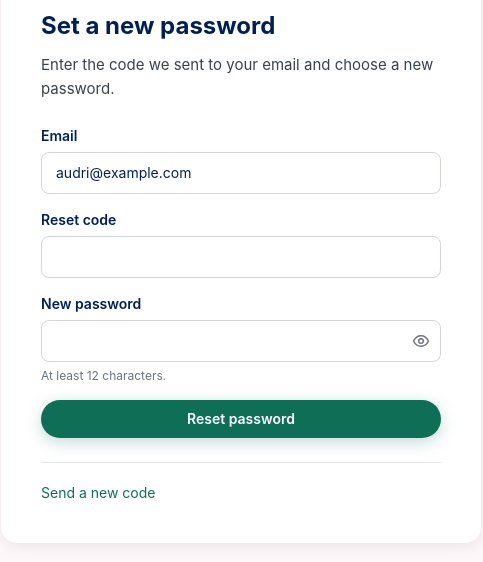
Test: ResetForgottenPasswordForm › blocks submission when the new password is shorter than 12 characters
This screenshot has width=483, height=562.
Type "123456" into the field labelled "Reset code" at (241, 257), box [41, 236, 441, 278]
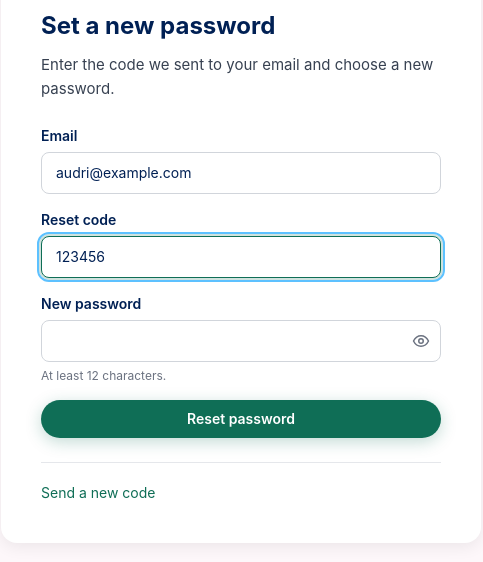
Type "tooshort1" into the password field labelled "New password" at (241, 341), box [41, 320, 441, 362]
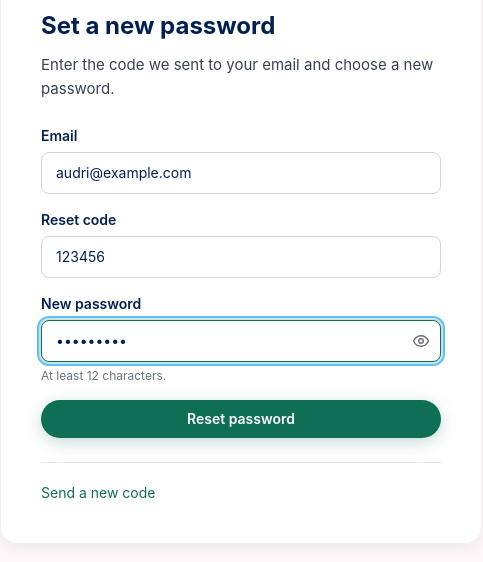
Click the button "Reset password" at (241, 419), box [41, 400, 441, 438]
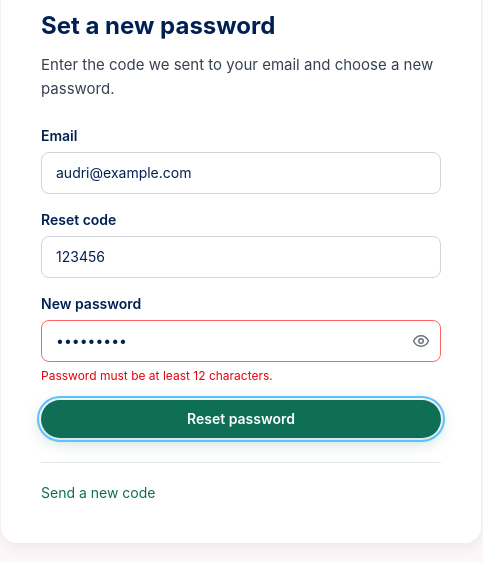
Check: the text "Password must be at least 12 characters." is shown, box [41, 368, 273, 383]
